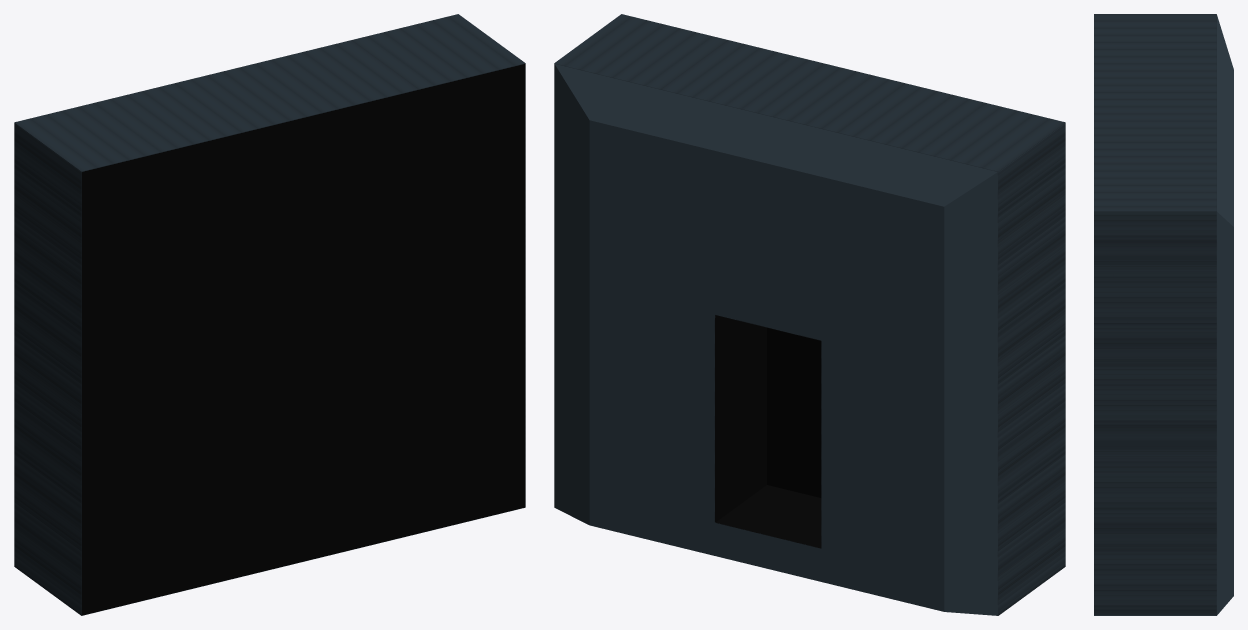
Rendered from module-mur3.0.fbx.
3 renders of one model, left to right at view 1: azimuth 30°, elevation 25°; view 2: azimuth 150°, elevation 25°; view 3: azimuth 270°, elevation 25°, orthographic. The views are drawn at different scales.
Visible parts, largest first — view 1: Cube.123; view 2: Cube.123; view 3: Cube.123.
Part boxes in pixels (x1,y1,x2,y2): Cube.123: [14, 14, 525, 615]; Cube.123: [554, 14, 1065, 615]; Cube.123: [1094, 14, 1233, 615].
Bounding box in the file's own units: 569 × 544 × 170.
Materials: 1 (1 with a texture image).
